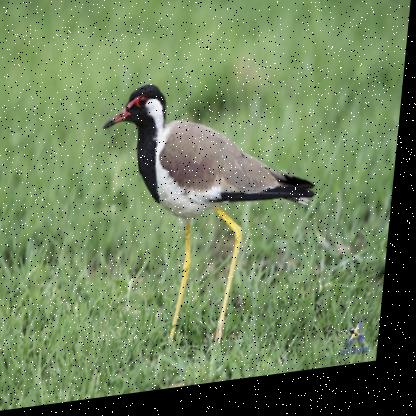Burung: (87, 69, 329, 367)
